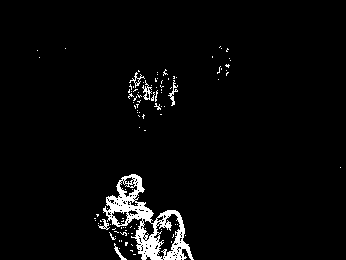person: (94, 172, 151, 260), (136, 209, 197, 260), (125, 69, 152, 119), (150, 66, 178, 111)
